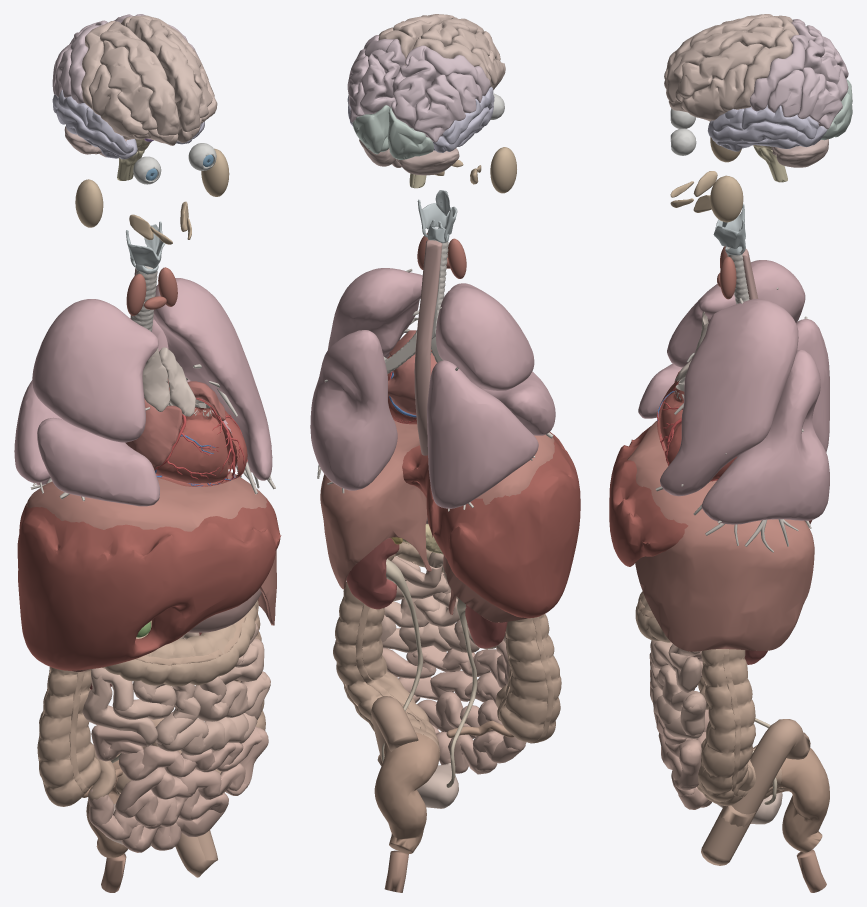
The model's file is organos.h.glb.
3 views of the same model, side by side, from view 1: azimuth 30°, elevation 25°; view 2: azimuth 150°, elevation 25°; view 3: azimuth 270°, elevation 25° (orthographic). The views are drawn at different scales.
Visible parts, largest first — view 1: capa; view 2: capa; view 3: capa.
Boxes of the visible parts, <box> form: capa: <box>14,14,281,892</box>; capa: <box>310,14,580,892</box>; capa: <box>609,14,852,892</box>.
Size of the model in its own units: 0.2599 by 0.9128 by 0.2324.
